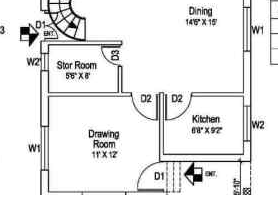door: (126, 87, 160, 127), (134, 160, 171, 196), (163, 88, 195, 123), (99, 44, 130, 67)
window: (36, 123, 56, 175), (240, 5, 257, 56), (240, 103, 258, 144), (38, 49, 52, 75)
